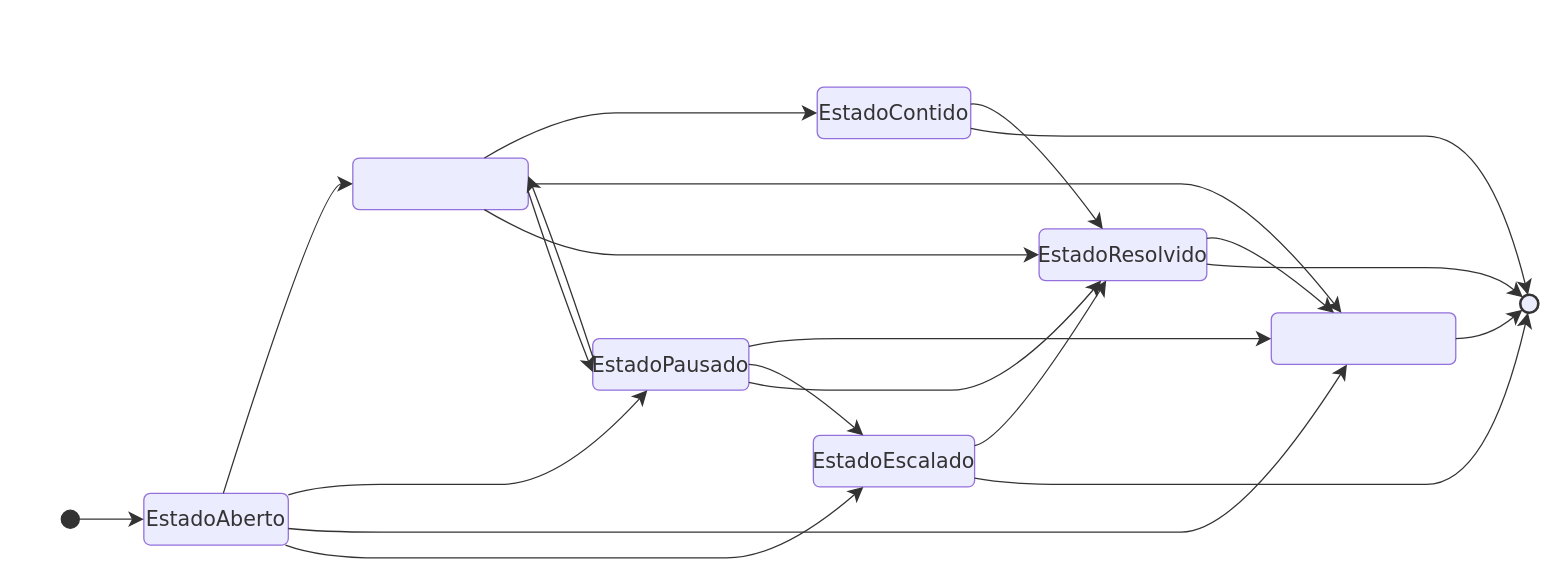
Image size: 1561x581. Some labels were removed from this diagram. The centre of each missing label's shape, as x and y in pixels:
"EstadoDescartado" goes at point (1363, 338).
"EstadoEmAnalise" goes at point (440, 183).
